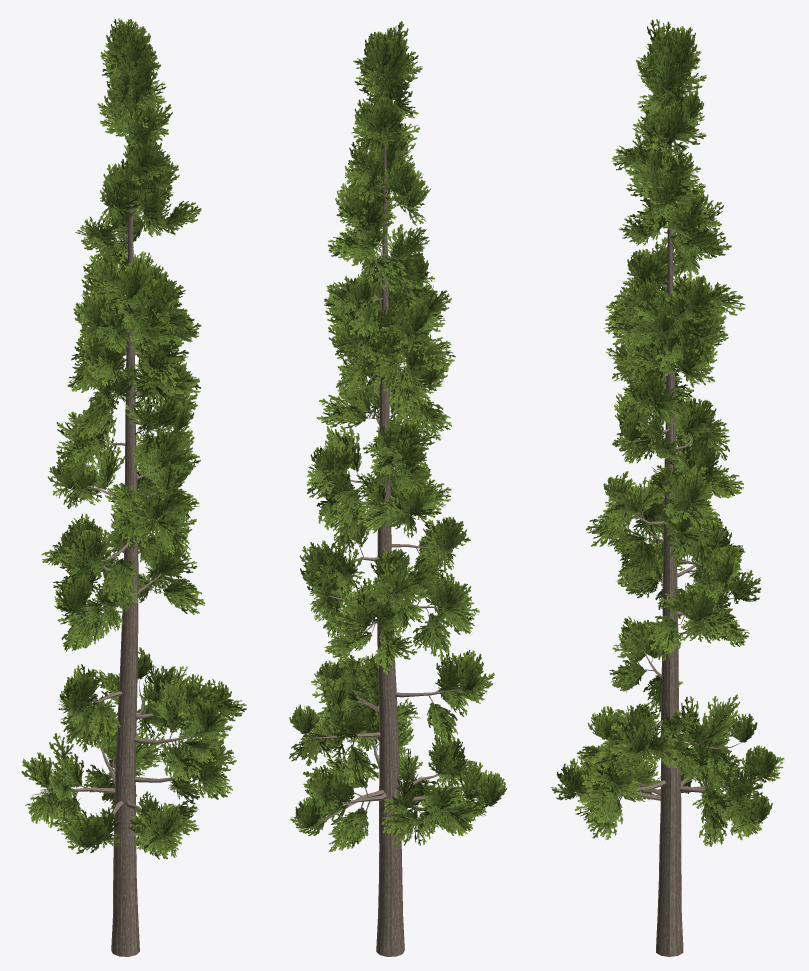
The model's file is RedwoodYoung_1.obj.
The picture shows the model from 3 angles, left to right: view 1: azimuth 30°, elevation 25°; view 2: azimuth 150°, elevation 25°; view 3: azimuth 270°, elevation 25°; orthographic projection.
Visible parts, largest first — view 1: RedwoodYoung_1; view 2: RedwoodYoung_1; view 3: RedwoodYoung_1.
Part boxes in pixels (x1=…): RedwoodYoung_1: x1=21, y1=18, x2=246, y2=956; RedwoodYoung_1: x1=289, y1=21, x2=506, y2=956; RedwoodYoung_1: x1=551, y1=19, x2=784, y2=956.
Bounding box in the file's own units: 23.68 × 104 × 25.33.
Materials: 2 (2 with a texture image).
